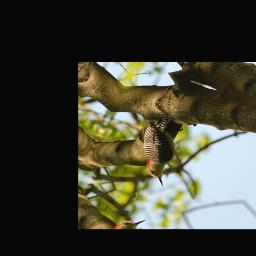Woodpecker: (124, 109, 195, 186)
